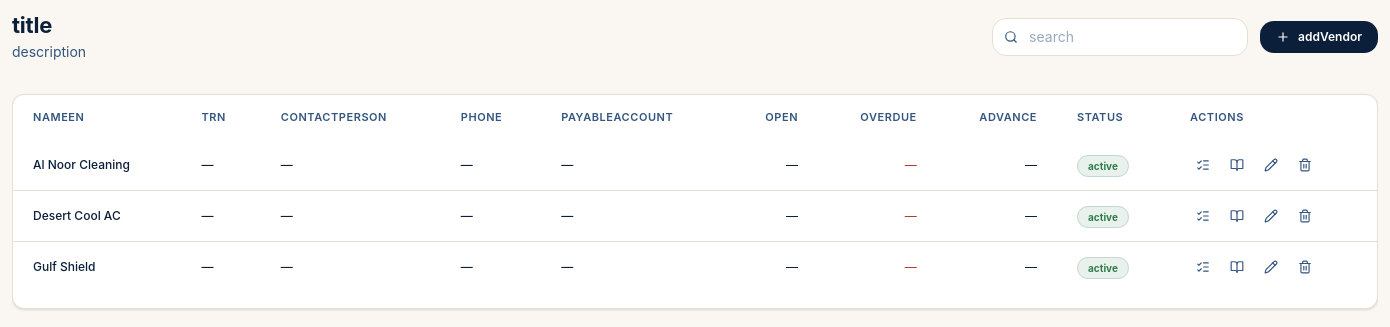
Test case: VendorsPage › searches on the server once typing pauses
The image size is (1390, 327).
Check: the text "Gulf Shield" is shown, box [13,241,182,292]
In the field with placeholder "search": (1120, 37) [992,18,1248,56], type "  gulf "
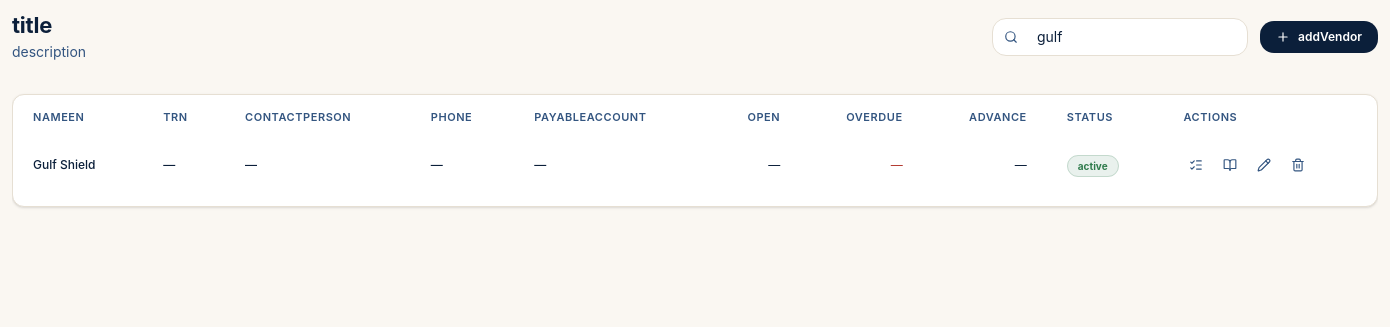
Check: the text "Gulf Shield" is shown, box [13,140,143,190]
Check: the text "Al Noor Cleaning" is gone
